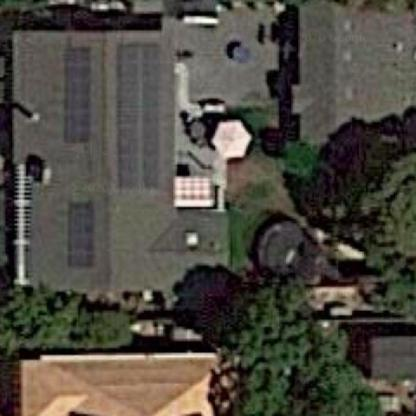solar_panel: (108, 35, 172, 193), (58, 43, 101, 145), (58, 196, 100, 272)
